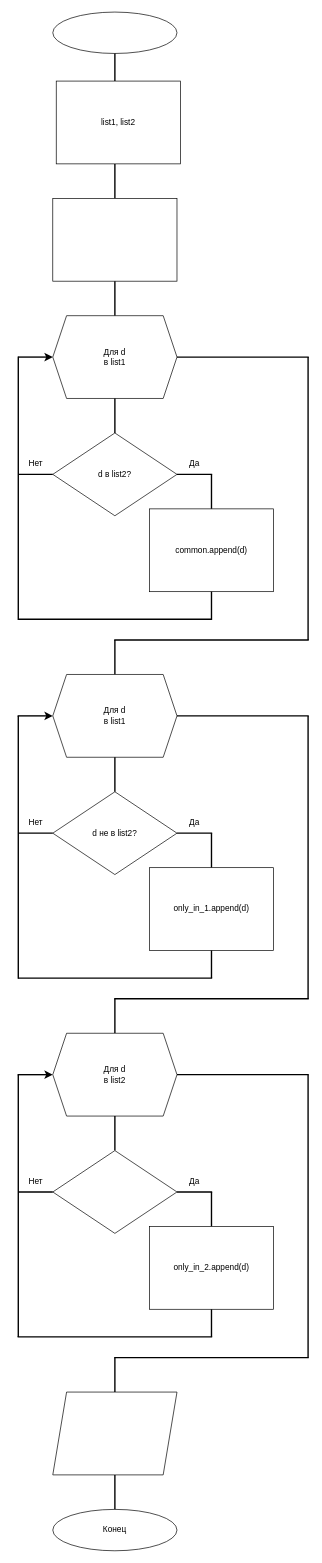
Some shapes in this 322 by 1563 pixel diagram are drawn without their labels. Here are the shapes that lost their labels. From the top down, the centre of each, then its label:
(x=114, y=32): Начало
(x=114, y=239): common = [] only_in_1 = [] only_in_2 = []
(x=114, y=1191): d не в list1?
(x=114, y=1433): Вывод common, only_in_1, only_in_2
